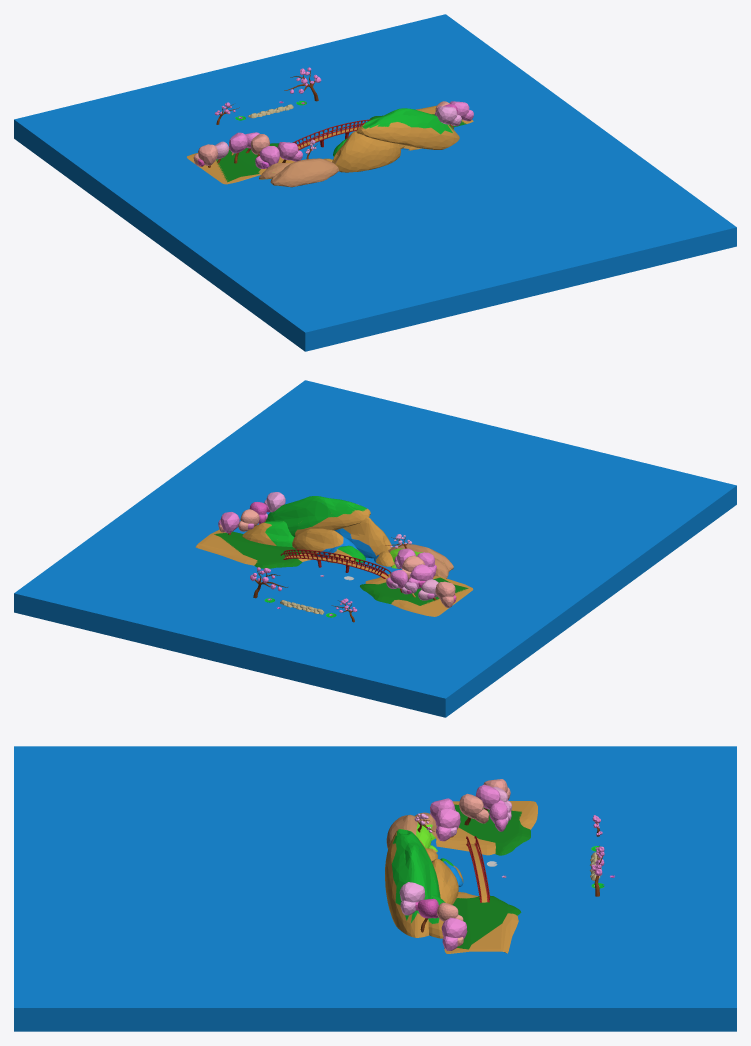
The model's file is Lago_sakura.obj.
3 views of the same model, one above another, from view 1: azimuth 30°, elevation 25°; view 2: azimuth 150°, elevation 25°; view 3: azimuth 270°, elevation 25° (orthographic). The views are drawn at different scales.
Parts seen in each view (by area): view 1: no agua_Cube.001, no monte_Icosphere, no arboles_Icosphere.005, no puente_Circle, no arbol.001_Cube.000; view 2: no agua_Cube.001, no monte_Icosphere, no arboles_Icosphere.005, no puente_Circle, no arbol.001_Cube.000; view 3: no agua_Cube.001, no monte_Icosphere, no arboles_Icosphere.005, no puente_Circle, no arbol.001_Cube.000.
Part boxes in pixels (left/top/right/bottom): no agua_Cube.001: left=14, top=14, right=736, bottom=351; no monte_Icosphere: left=187, top=103, right=473, bottom=187; no arboles_Icosphere.005: left=193, top=101, right=473, bottom=168; no puente_Circle: left=292, top=119, right=371, bottom=150; no arbol.001_Cube.000: left=214, top=67, right=321, bottom=159; no agua_Cube.001: left=14, top=380, right=736, bottom=717; no monte_Icosphere: left=195, top=496, right=473, bottom=616; no arboles_Icosphere.005: left=218, top=492, right=456, bottom=607; no puente_Circle: left=280, top=549, right=390, bottom=578; no arbol.001_Cube.000: left=250, top=534, right=411, bottom=622; no agua_Cube.001: left=14, top=746, right=736, bottom=1031; no monte_Icosphere: left=385, top=801, right=537, bottom=953; no arboles_Icosphere.005: left=399, top=779, right=512, bottom=950; no puente_Circle: left=466, top=836, right=489, bottom=902; no arbol.001_Cube.000: left=414, top=813, right=604, bottom=896.
Size of the model in its own units: 218 by 30.31 by 254.
